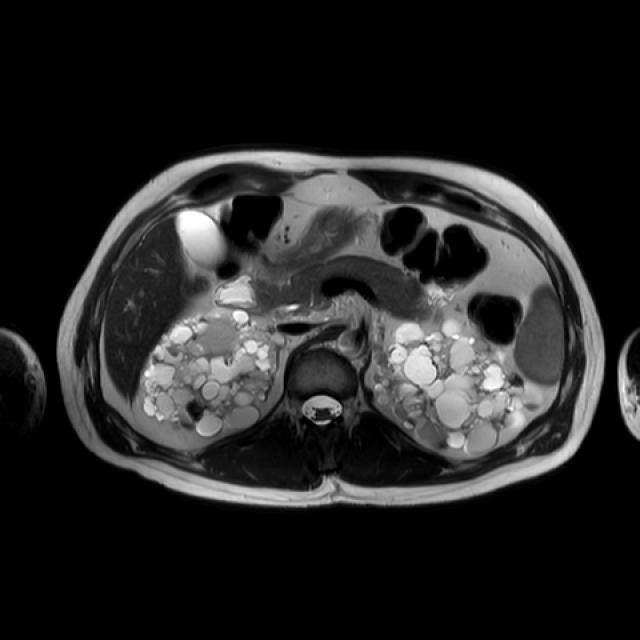sag: (138, 303, 288, 439)
sol: (371, 317, 545, 455)
